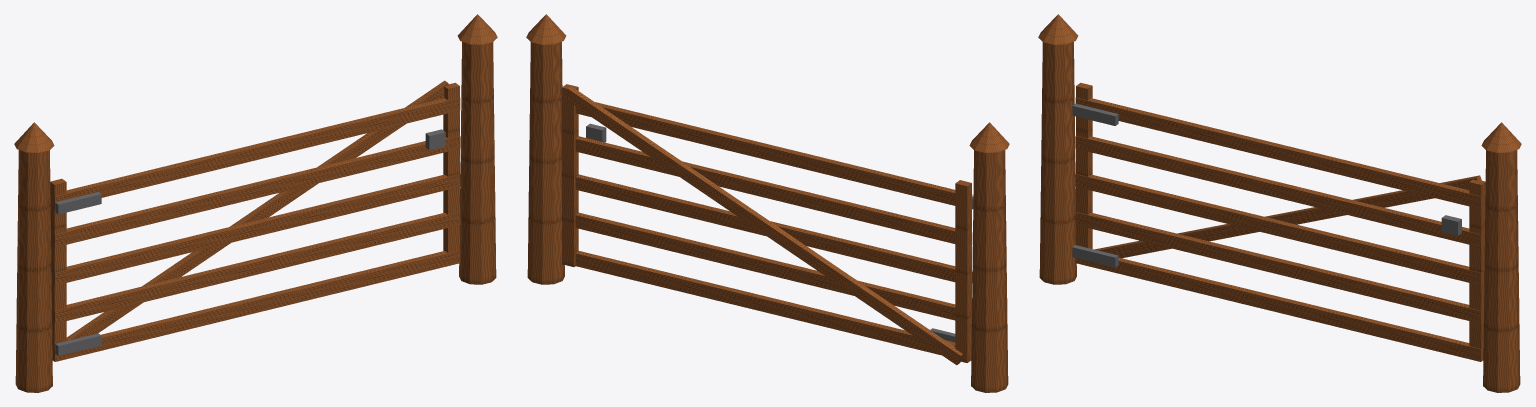
File: yard-gate.glb
The picture shows the model from 3 angles, left to right: view 1: azimuth 30°, elevation 25°; view 2: azimuth 150°, elevation 25°; view 3: azimuth 330°, elevation 25°; orthographic projection.
Visible parts, largest first — view 1: gate/timber, yard-gate-timber, gate/dark; view 2: gate/timber, yard-gate-timber, gate/dark; view 3: gate/timber, yard-gate-timber, gate/dark.
Part boxes in pixels (x1,y1,x2,y2): gate/timber: [50, 80, 460, 361]; yard-gate-timber: [14, 14, 497, 392]; gate/dark: [55, 129, 445, 355]; gate/timber: [562, 84, 972, 365]; yard-gate-timber: [526, 14, 1009, 392]; gate/dark: [586, 123, 973, 342]; gate/timber: [1075, 82, 1485, 361]; yard-gate-timber: [1038, 14, 1521, 392]; gate/dark: [1072, 103, 1461, 267].
Size of the model in its own units: 3.54 by 1.86 by 0.2472.
Materials: 2 (1 with a texture image).
